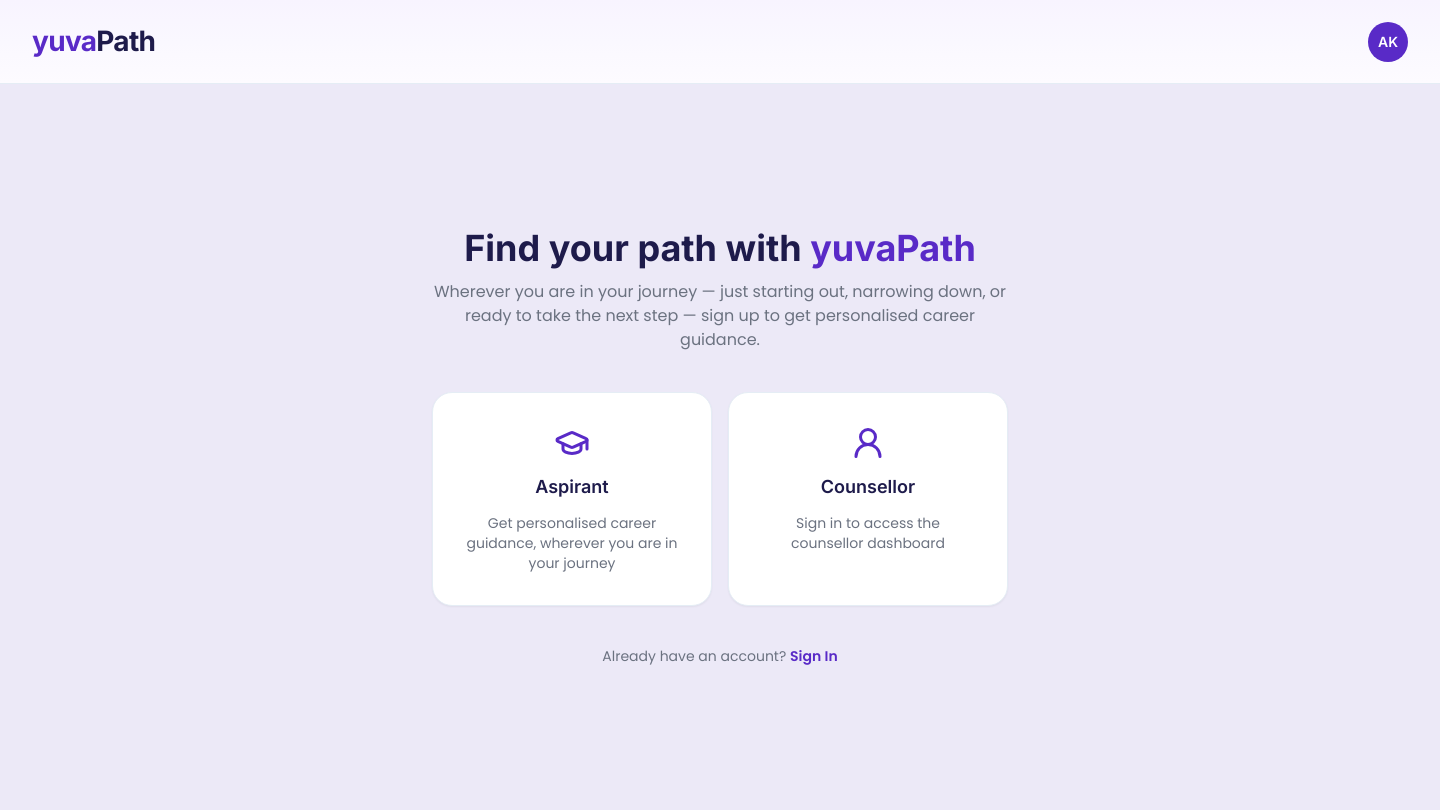
AppHeader account menu — hover, pin, red sign out › opens on hover, stays open once clicked, and closes on Escape; Sign out is red
Hover over the button with aria-label "Account menu": {"x": 1388, "y": 42} [1368,22,1408,62]
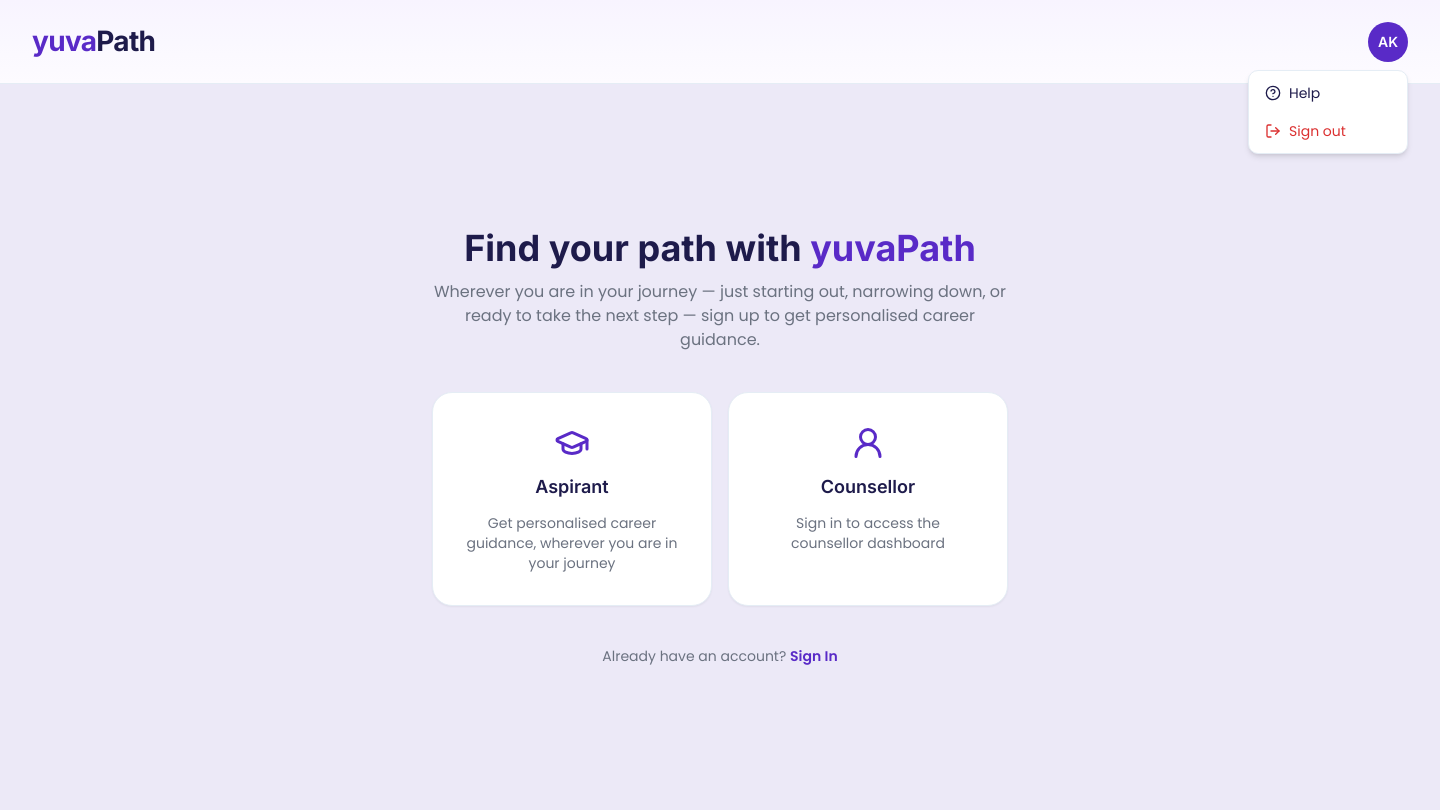
Click the button with aria-label "Account menu": {"x": 1388, "y": 42} [1368,22,1408,62]
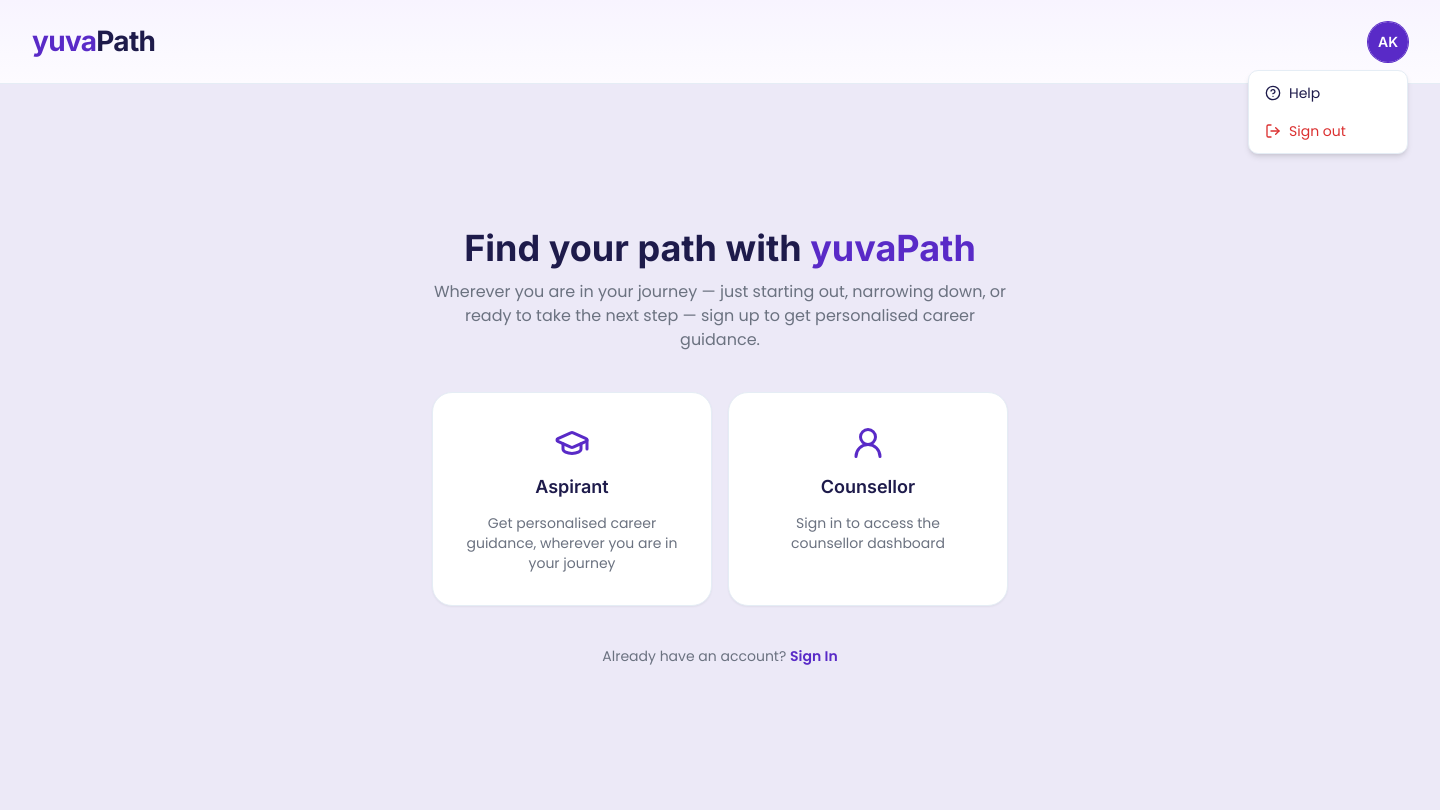
Move the pointer off the button with aria-label "Account menu", box [1368,22,1408,62]
Check: the menu item "Sign out" is shown, box [1253,112,1403,148]
Press Escape
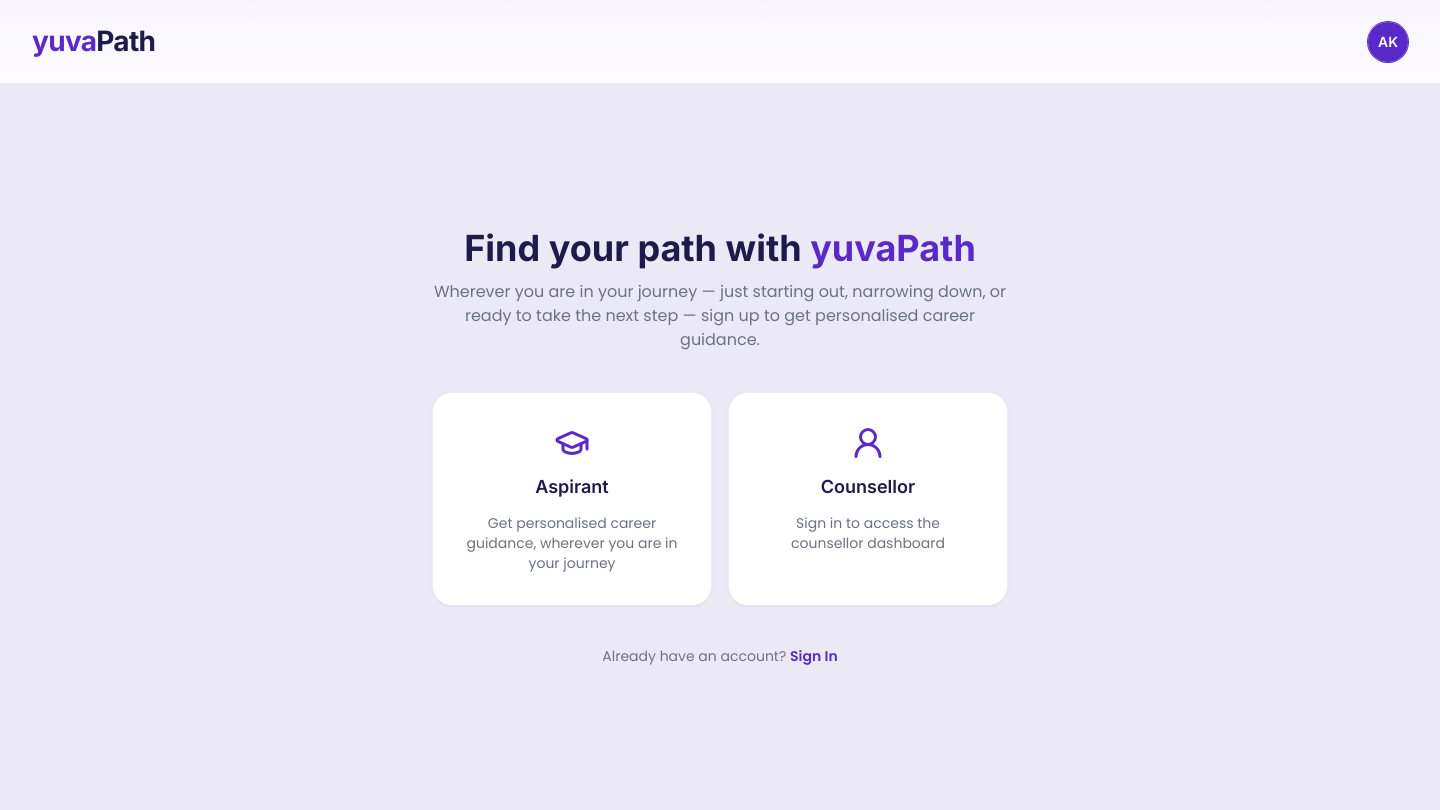
Check: the menu item "Sign out" is gone
